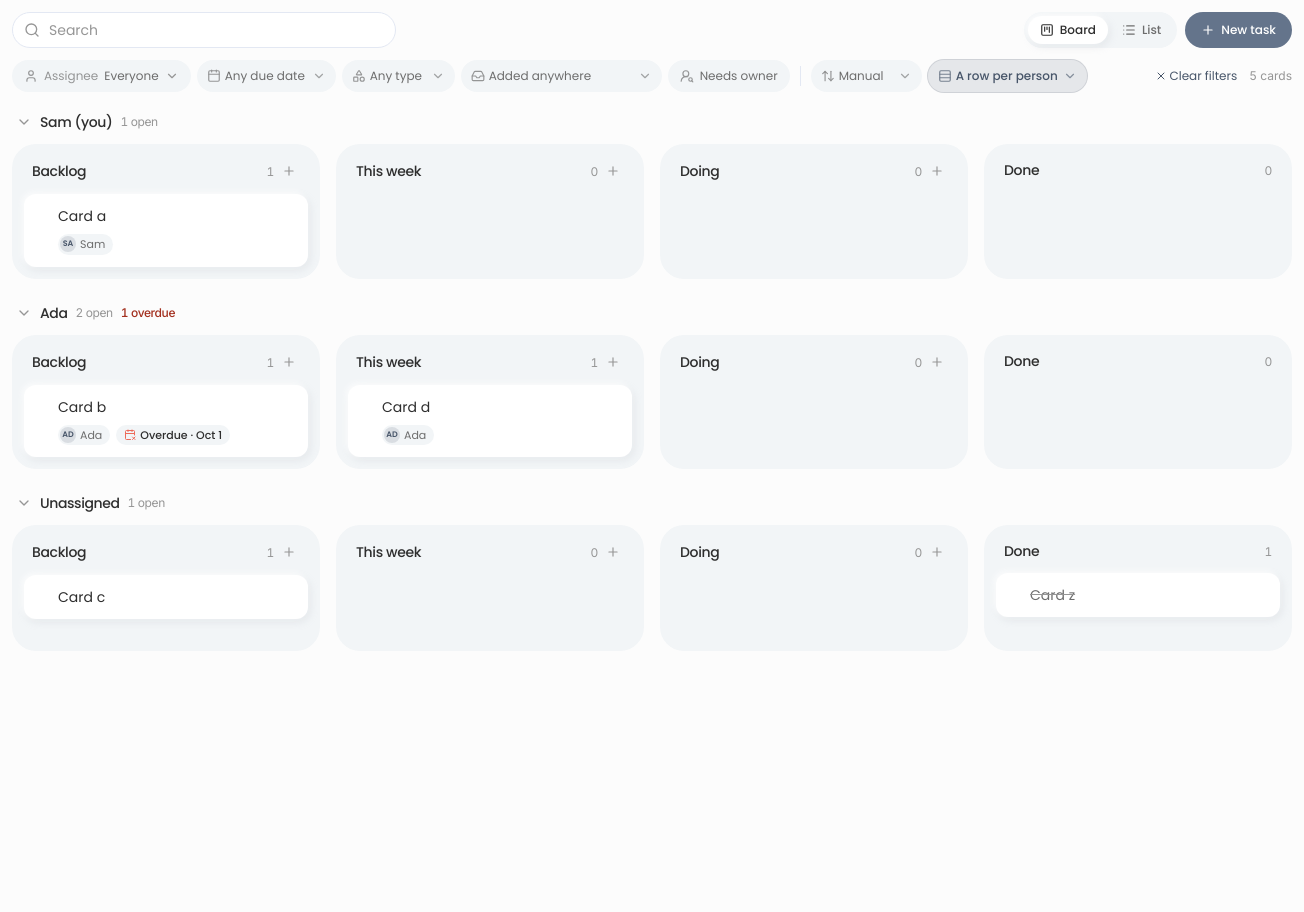
Test: adding a card inside a person's row › in Unassigned, the card starts with nobody
The image size is (1304, 912).
Click the button named "Add a card to Backlog for Unassigned". click: (289,552)
box: top-left (278, 541), bottom-right (300, 563)
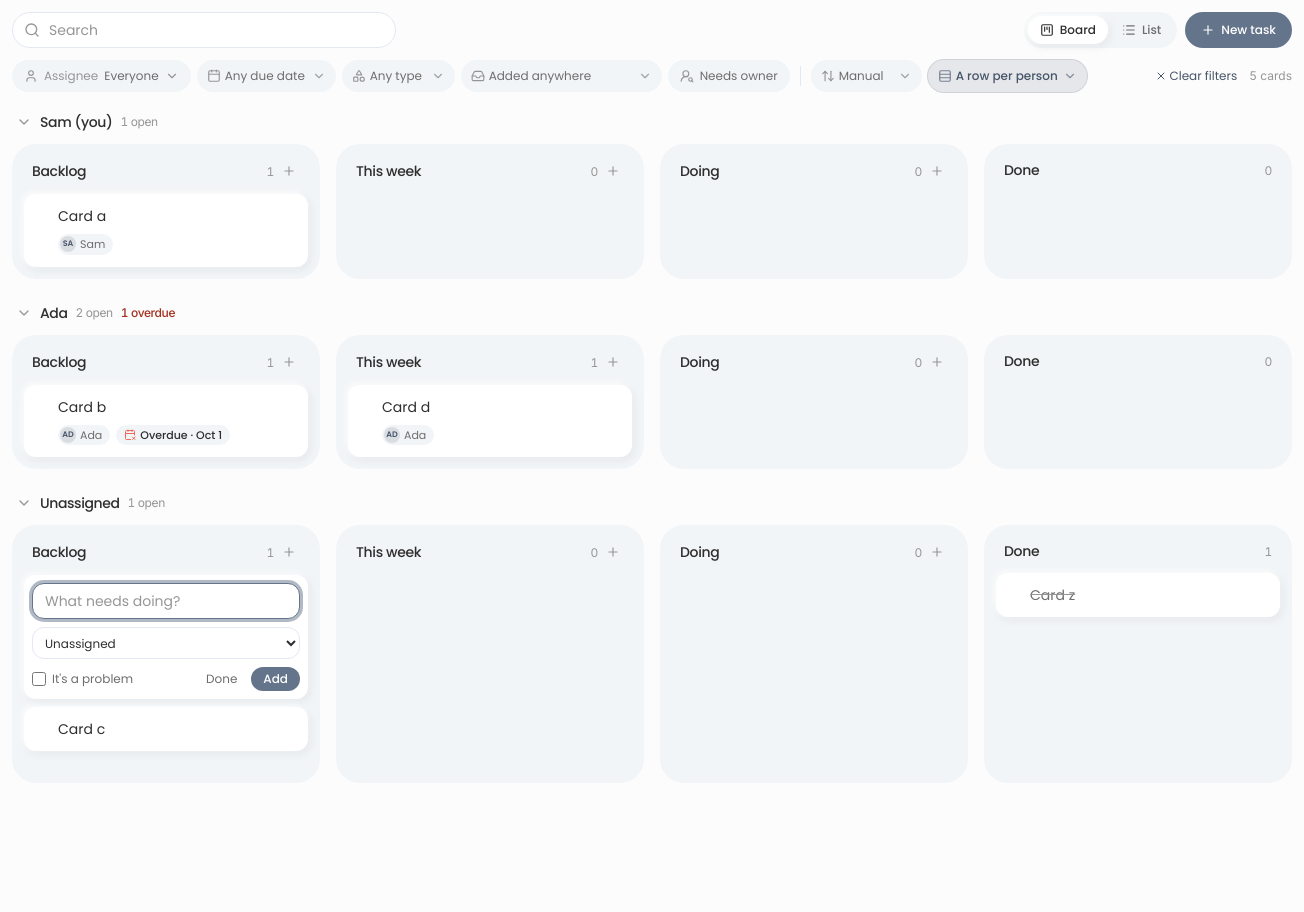
Expected: the dropdown named "Assignee" shows "Unassigned", top-left (32, 627), bottom-right (300, 659)
